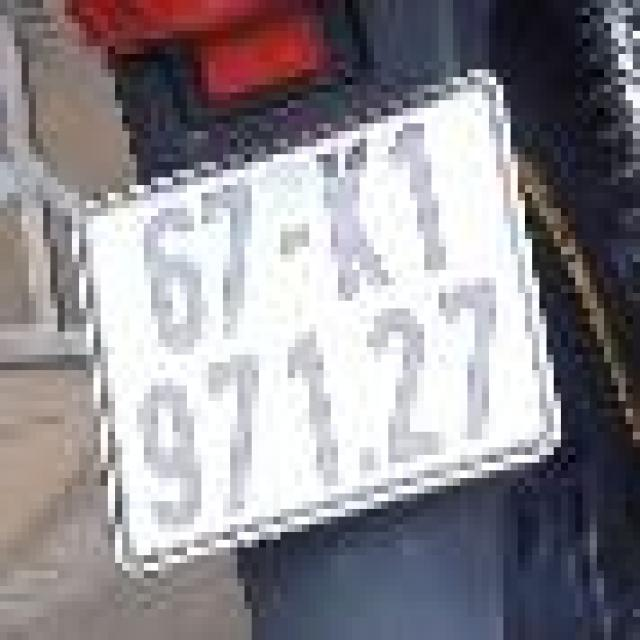1: (273, 325, 372, 502), (382, 102, 474, 289)
2: (353, 292, 455, 479)
6: (122, 188, 223, 371)
7: (425, 262, 522, 452), (191, 344, 285, 527), (190, 167, 278, 353)
9: (118, 362, 224, 551)
K: (303, 126, 405, 310)
